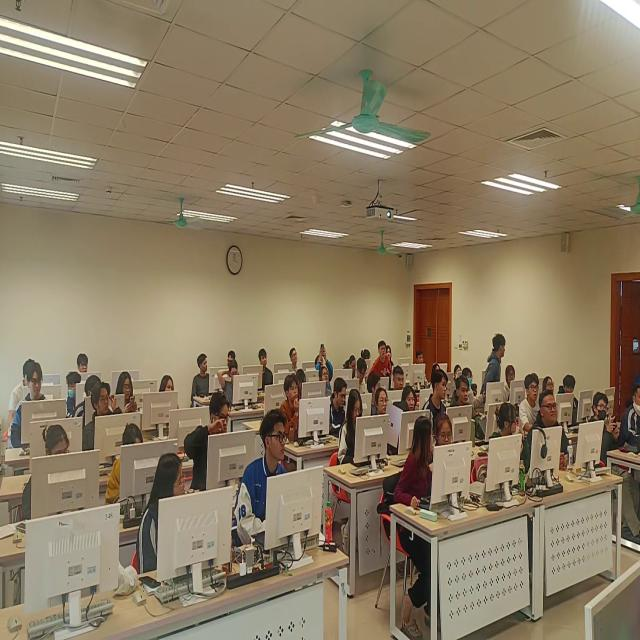raise_head: (237, 409, 290, 548), (526, 390, 574, 470), (281, 375, 304, 445), (519, 371, 542, 433), (620, 379, 640, 448), (424, 370, 450, 417), (257, 348, 273, 390), (376, 383, 391, 421), (453, 376, 471, 407), (159, 375, 179, 396), (392, 363, 406, 390), (289, 346, 302, 372), (320, 365, 332, 392), (77, 351, 90, 374), (543, 375, 555, 396), (415, 348, 427, 367), (387, 343, 394, 368)
stand: (483, 330, 507, 402), (371, 340, 393, 379)
using_computer: (25, 420, 74, 518), (187, 390, 230, 493), (106, 420, 146, 506), (13, 363, 46, 450), (339, 388, 365, 468), (8, 361, 34, 422), (558, 374, 581, 424), (218, 362, 243, 406), (330, 376, 348, 437), (464, 365, 482, 408), (354, 357, 370, 394), (402, 384, 418, 415), (506, 362, 518, 401), (344, 352, 357, 380), (296, 368, 308, 389), (362, 347, 373, 363), (433, 362, 443, 374), (454, 364, 462, 376)
using_phone: (584, 390, 640, 548), (117, 369, 141, 415), (315, 343, 335, 378)
